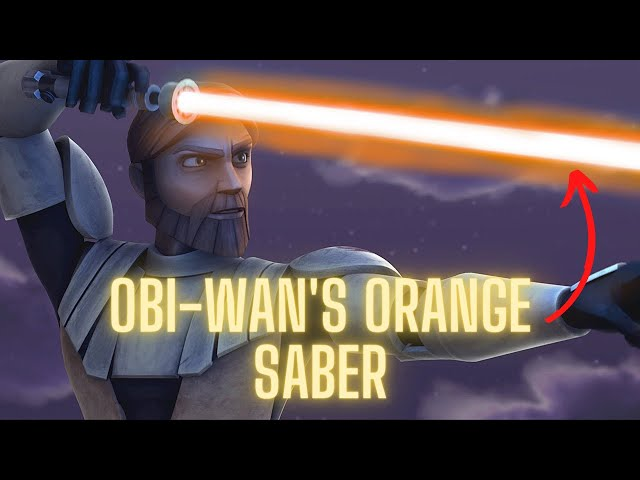lightsaber: (38, 31, 640, 201)
